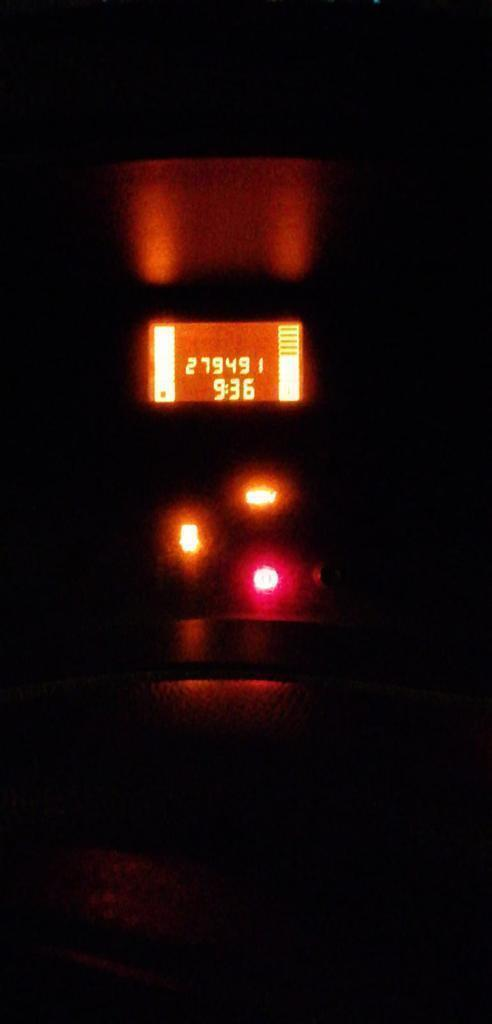1: (257, 356, 263, 374)
2: (185, 356, 197, 374)
3: (228, 378, 239, 400)
4: (225, 356, 236, 374)
6: (242, 377, 255, 400)
7: (199, 356, 210, 374)
9: (212, 378, 225, 400), (211, 356, 223, 374), (238, 356, 249, 374)
X: (224, 383, 228, 393)
odometer: (145, 320, 303, 405)
